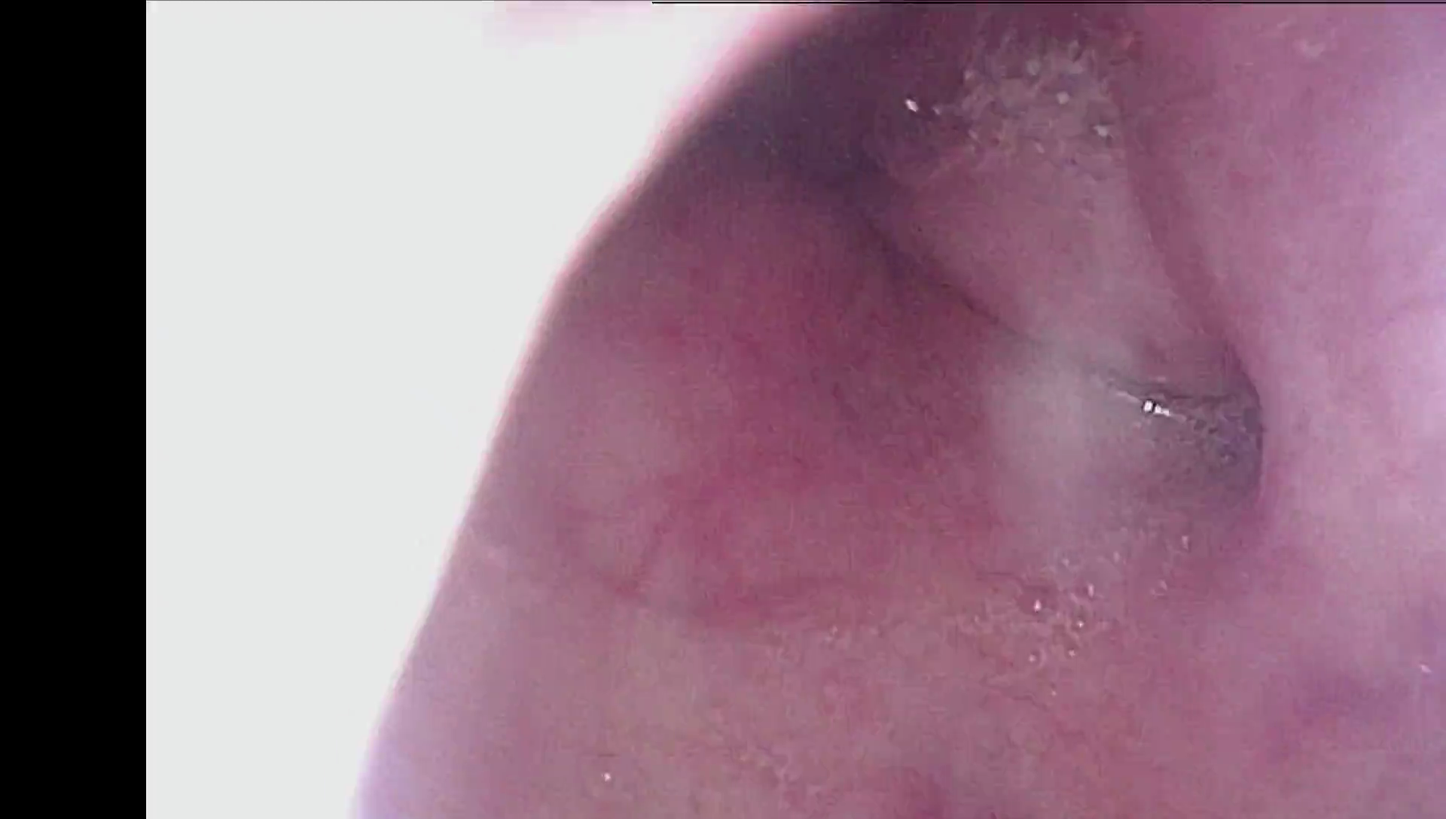close_wall: (154, 0, 816, 815)
next: (691, 40, 894, 194)
